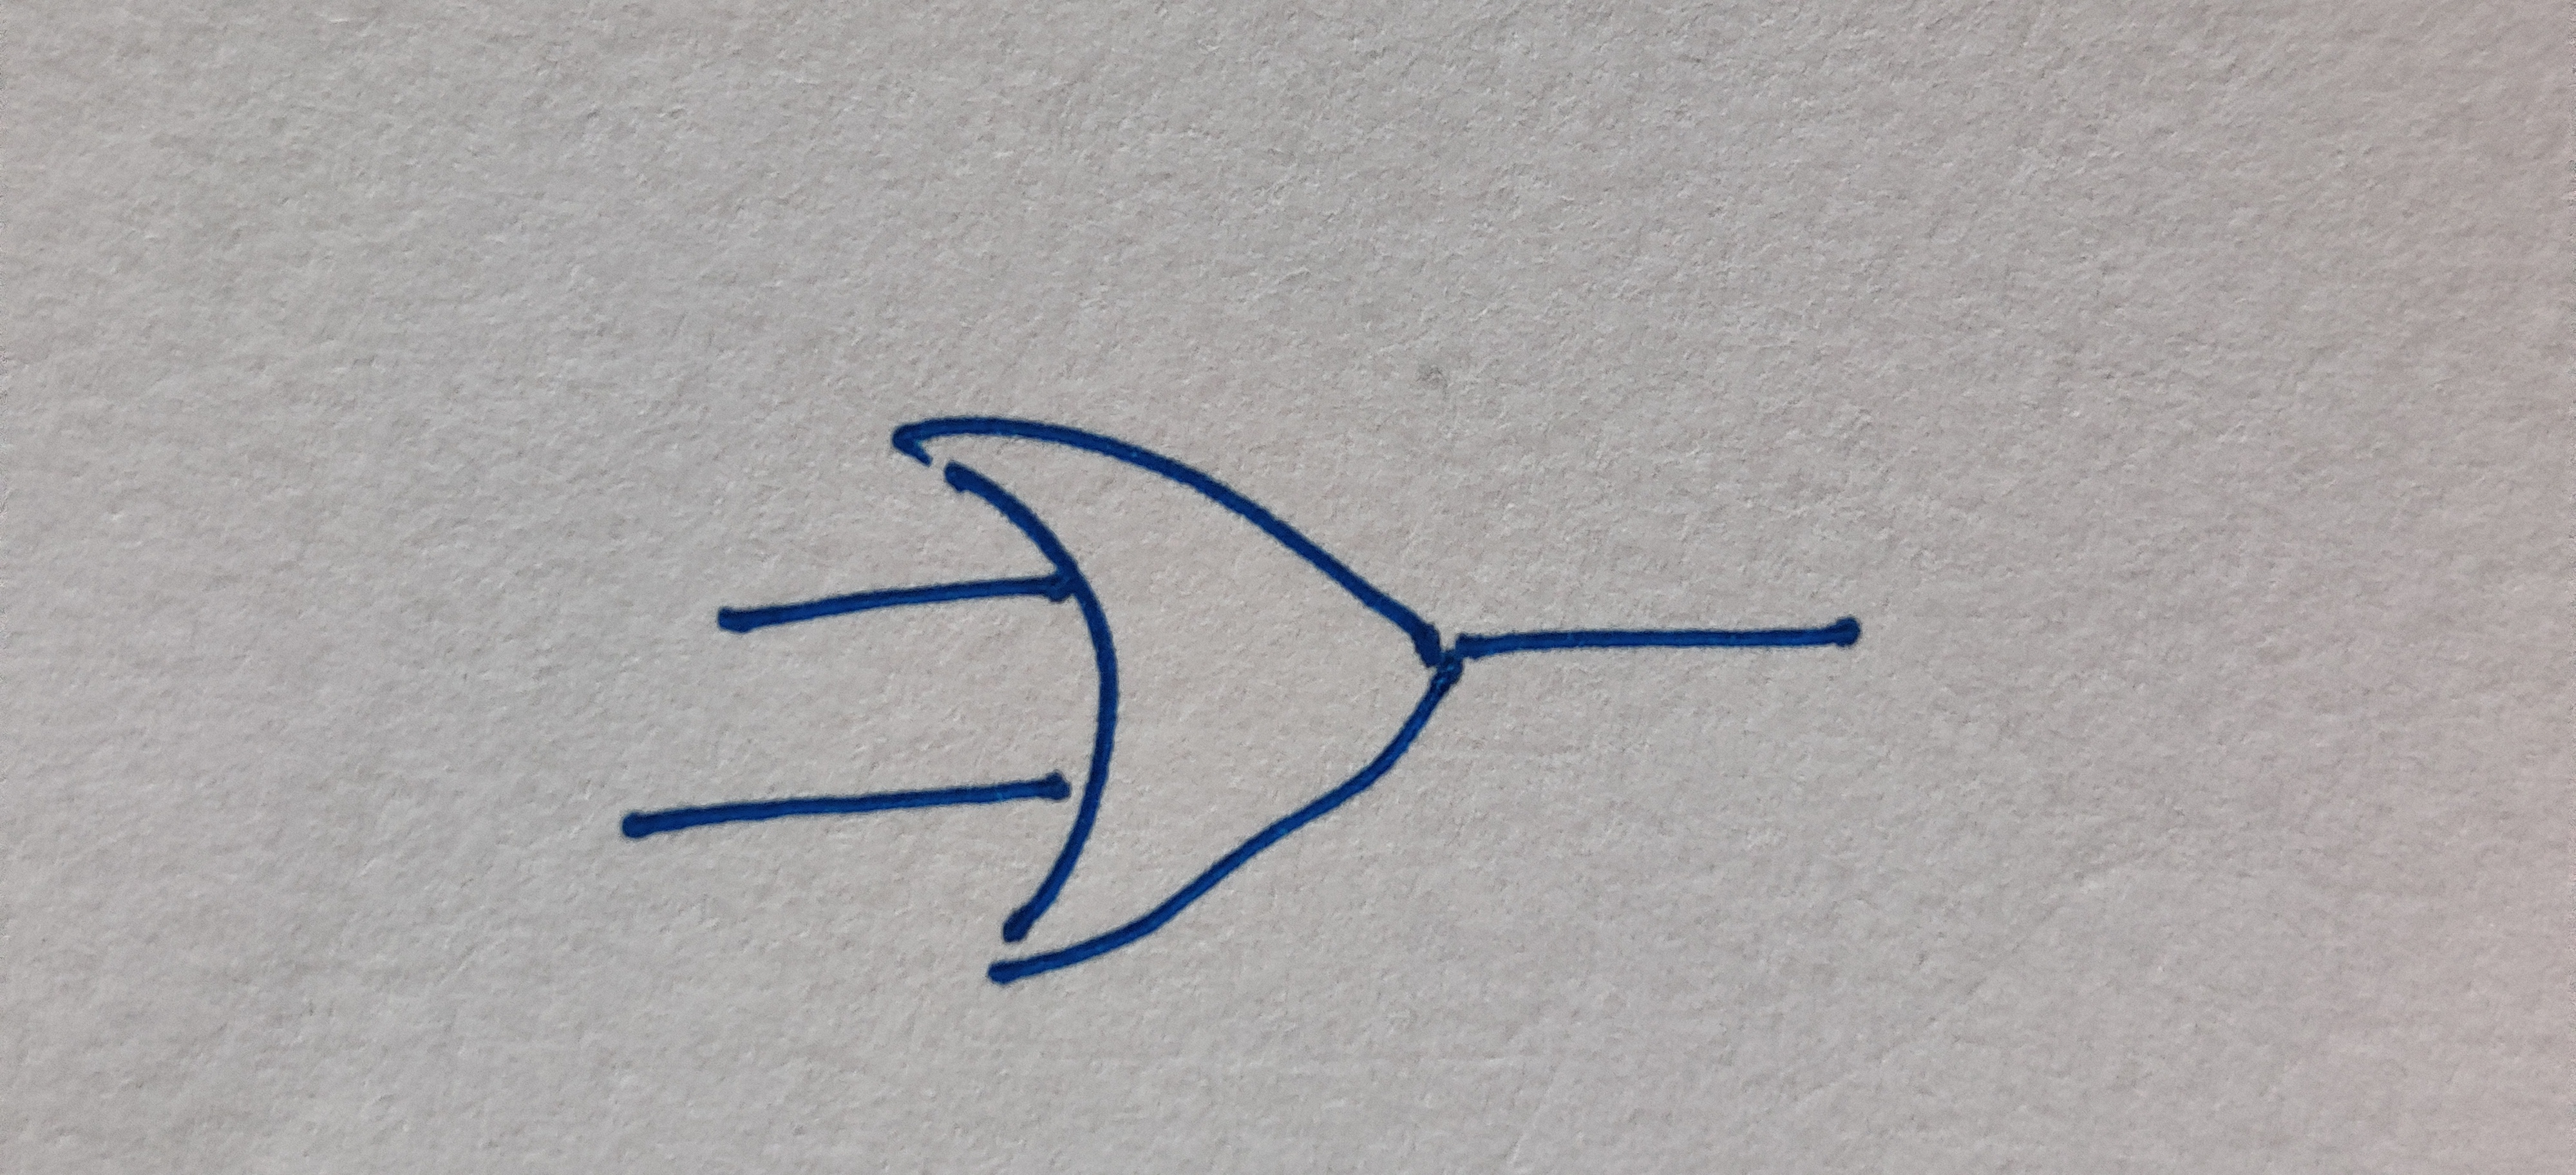or: (894, 414, 1460, 978)
